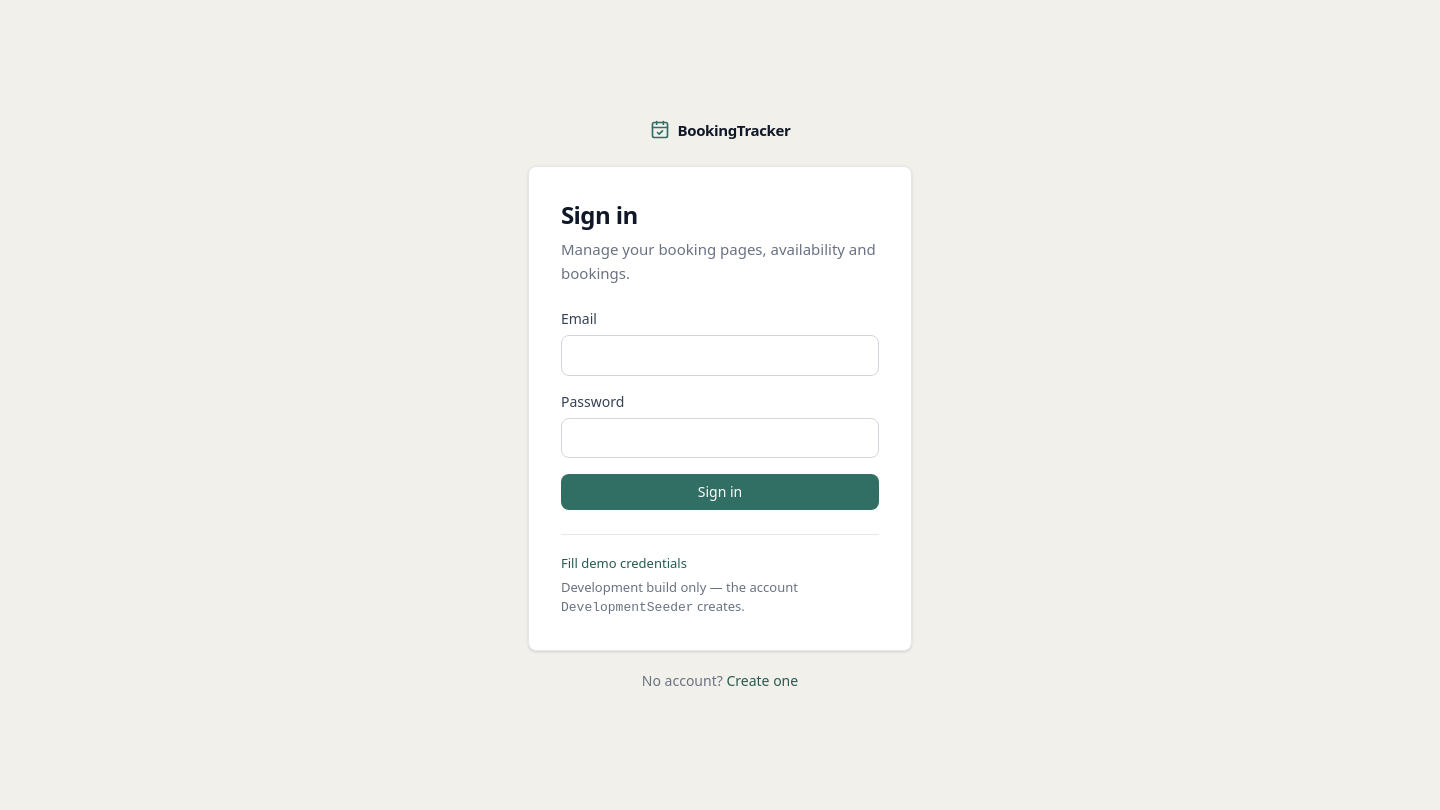
Test: signing in returns you to where you were going › sends an ordinary sign-in to the default destination
This screenshot has width=1440, height=810.
Type "organizer@example.com" into the field labelled "Email" at (720, 356), box [561, 335, 879, 376]
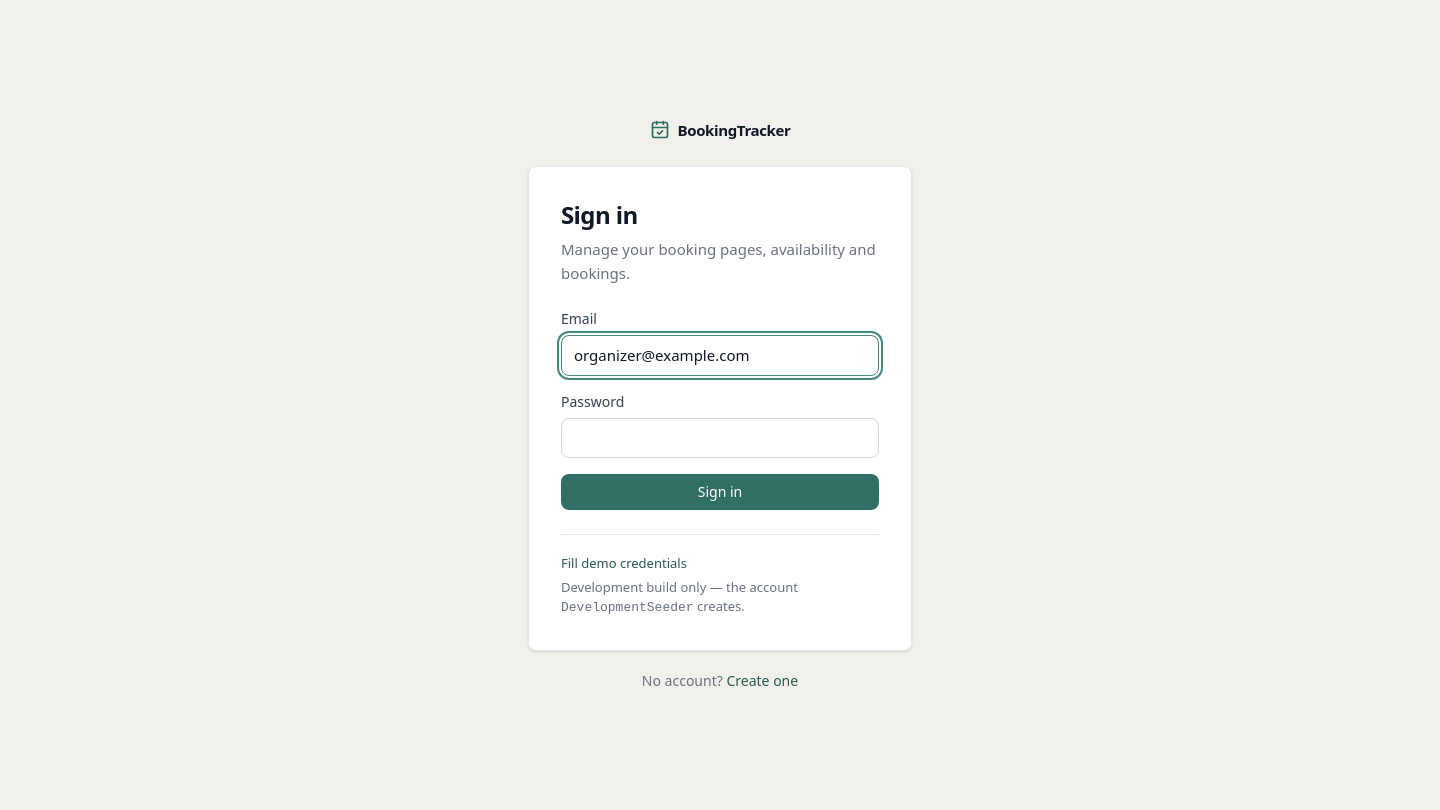
Type "Passw0rd!" into the password field labelled "Password" at (720, 438), box [561, 418, 879, 458]
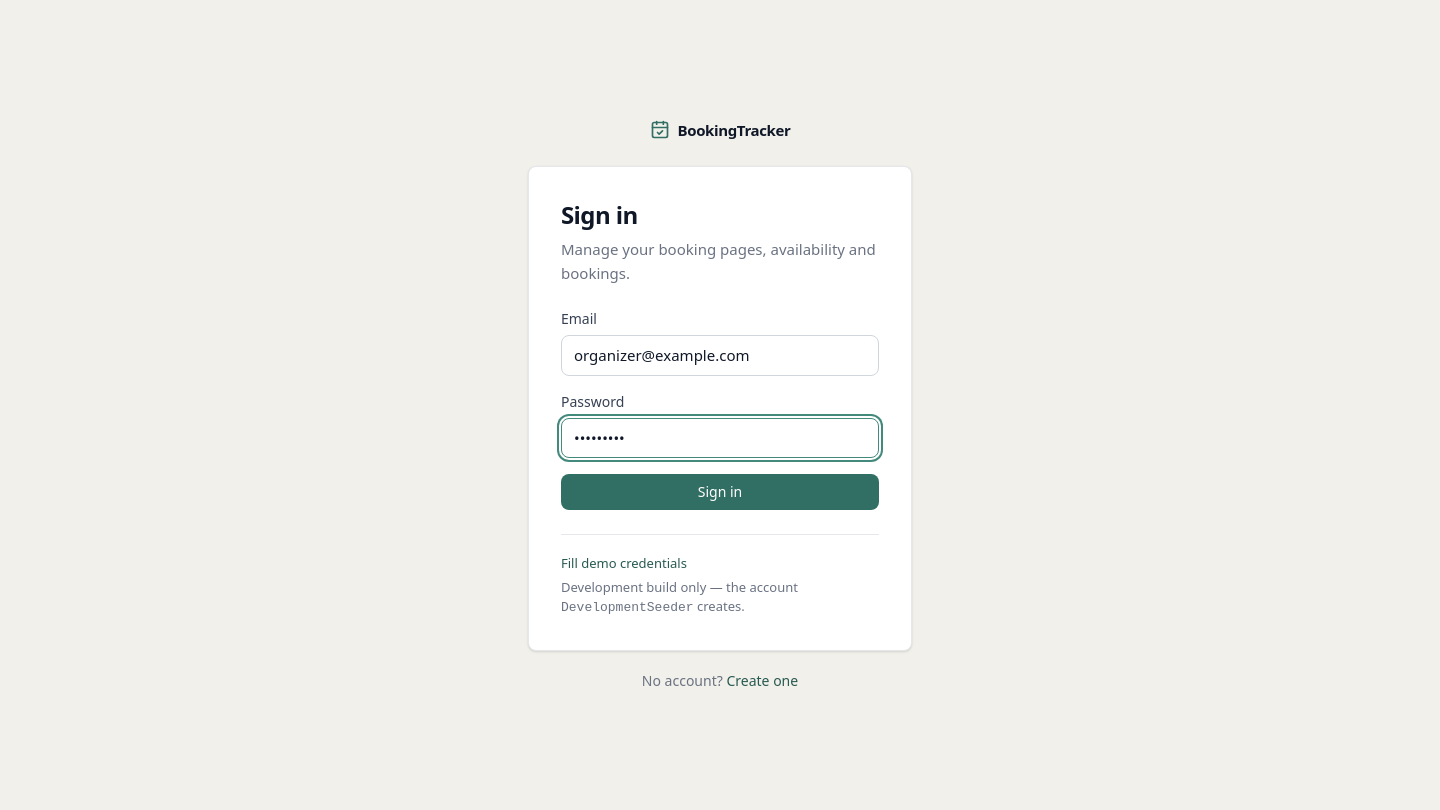
Click the button "Sign in" at (720, 492), box [561, 474, 879, 510]
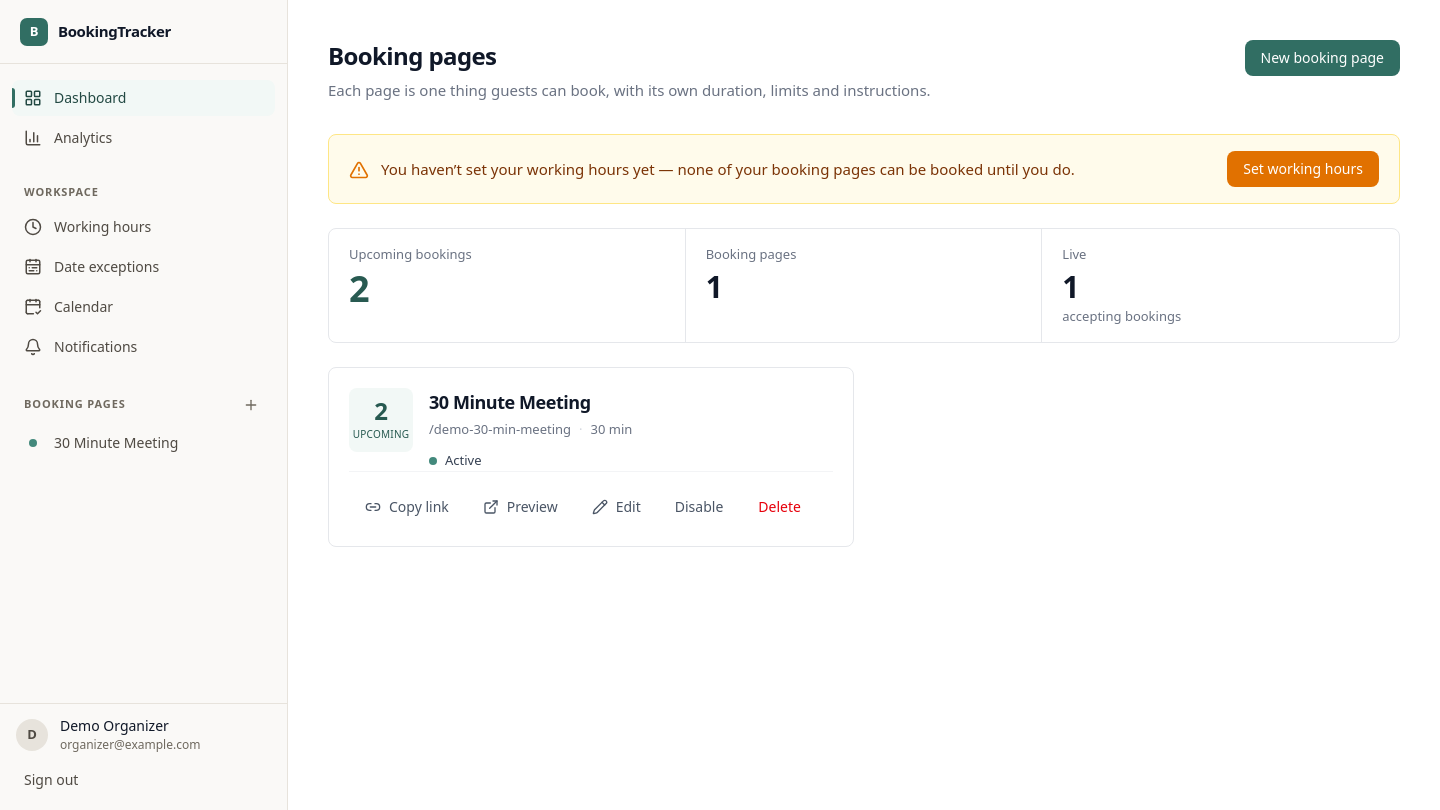
Check: the heading "Booking pages" is shown, box [328, 39, 496, 72]
